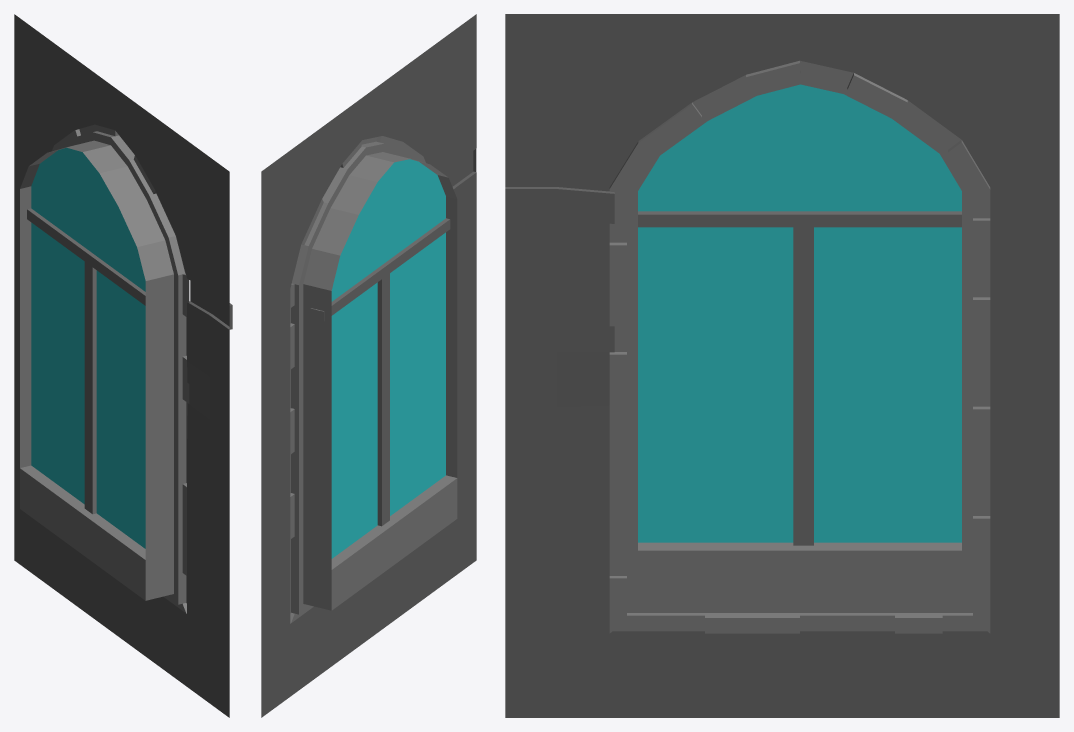
Rendered from FenêtreCourbCroix.glb.
3 views of the same model, side by side, from view 1: azimuth 30°, elevation 25°; view 2: azimuth 150°, elevation 25°; view 3: azimuth 270°, elevation 25° (orthographic). The views are drawn at different scales.
Visible parts, largest first — view 1: EmpacementFenêtreCourb; view 2: EmpacementFenêtreCourb; view 3: EmpacementFenêtreCourb.
Boxes of the visible parts, x1=… form: EmpacementFenêtreCourb: x1=14, y1=14, x2=232, y2=717; EmpacementFenêtreCourb: x1=261, y1=14, x2=476, y2=717; EmpacementFenêtreCourb: x1=505, y1=14, x2=1059, y2=717.
Bounding box in the file's own units: 0.1258 × 1.8 × 1.28.
